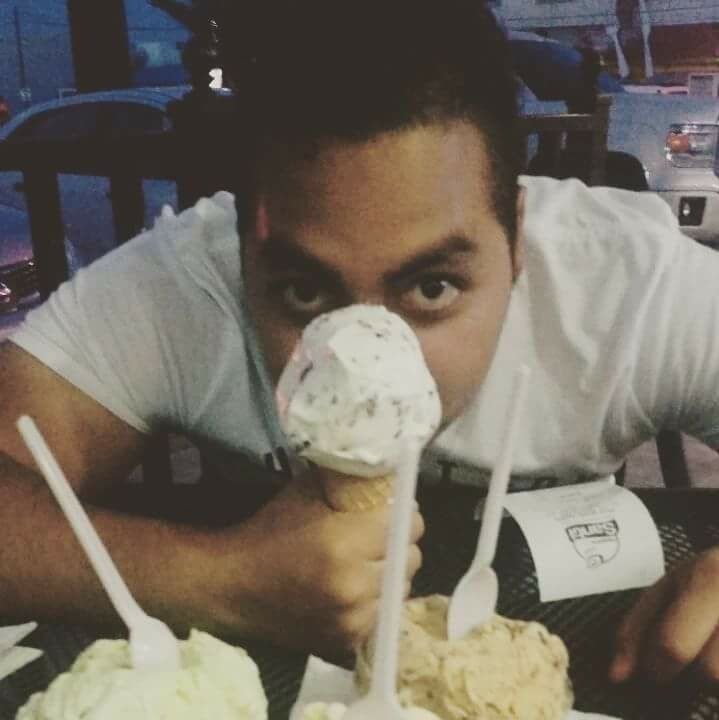Yoshi: (178, 23, 511, 457)
